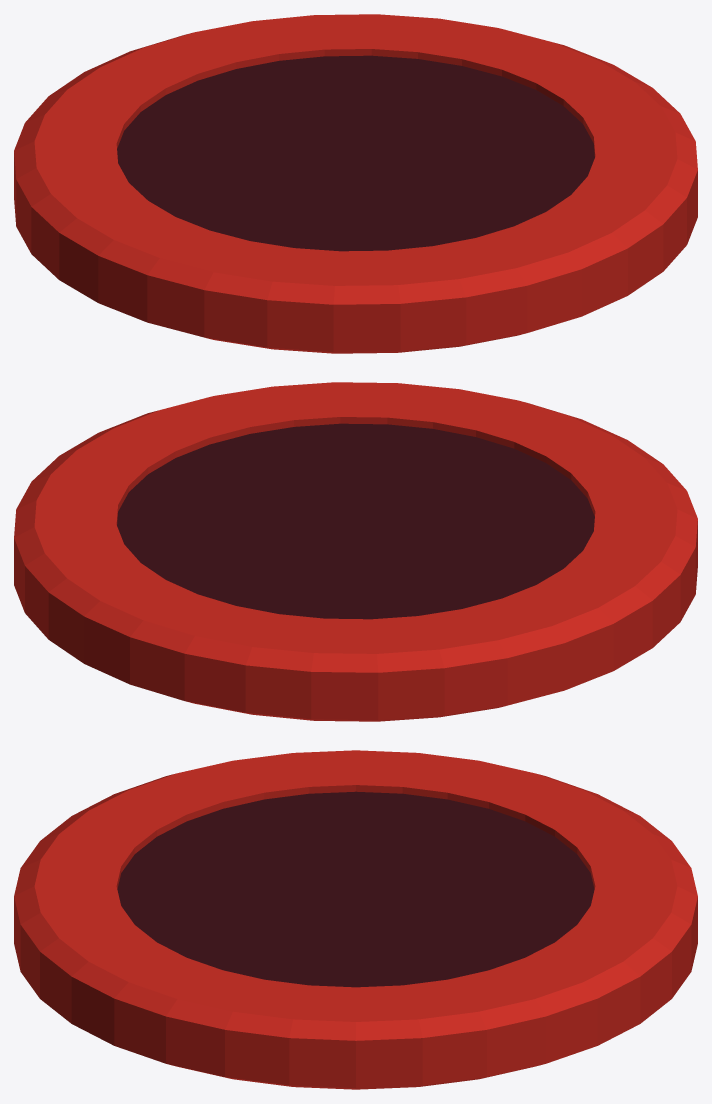
File: mult_chip.glb
The picture shows the model from 3 angles, top to bottom: view 1: azimuth 30°, elevation 25°; view 2: azimuth 150°, elevation 25°; view 3: azimuth 270°, elevation 25°; orthographic projection.
Visible parts, largest first — view 1: MultChip; view 2: MultChip; view 3: MultChip.
Boxes of the visible parts, x1=… form: MultChip: x1=14, y1=14, x2=697, y2=353; MultChip: x1=14, y1=382, x2=697, y2=721; MultChip: x1=14, y1=750, x2=697, y2=1089.
Size of the model in its own units: 0.055 by 0.006 by 0.055.
